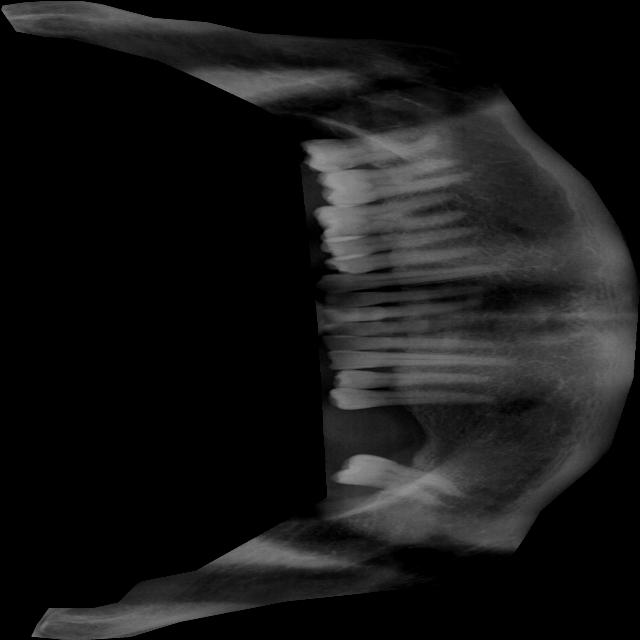mandibula: (1, 0, 640, 640)
